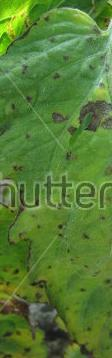Tomato leaf bacterial spot: (0, 0, 112, 358), (0, 181, 76, 358)
